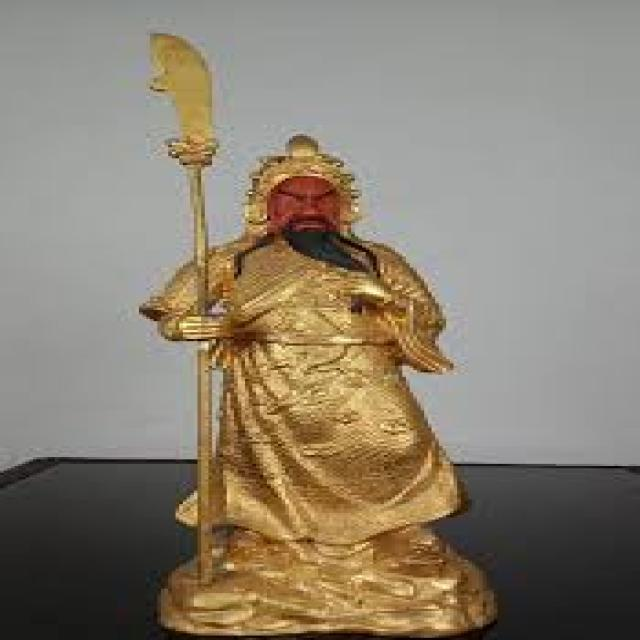Guan Yu: (167, 127, 415, 487)
